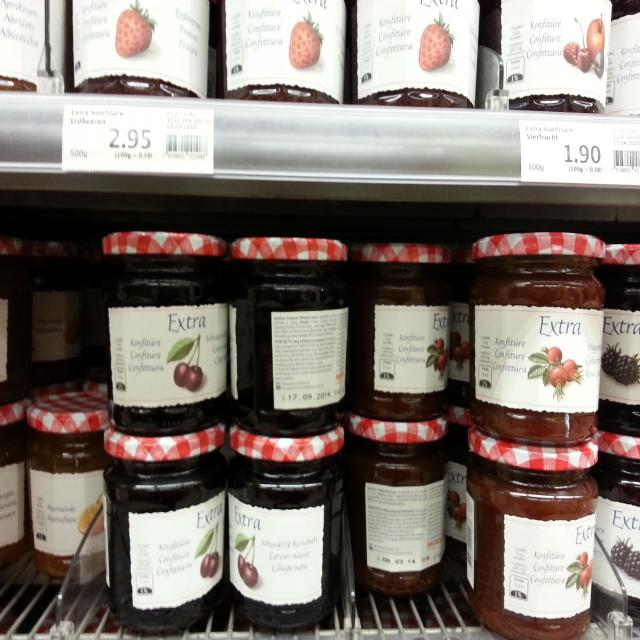Spreads: (469, 232, 607, 442), (466, 426, 599, 640), (98, 230, 226, 435), (104, 428, 228, 632), (228, 237, 350, 437), (228, 425, 345, 630), (349, 410, 452, 596), (350, 242, 453, 421), (26, 390, 106, 584), (346, 0, 481, 107), (481, 0, 609, 112), (67, 0, 209, 98), (216, 0, 346, 105), (591, 428, 640, 623)
